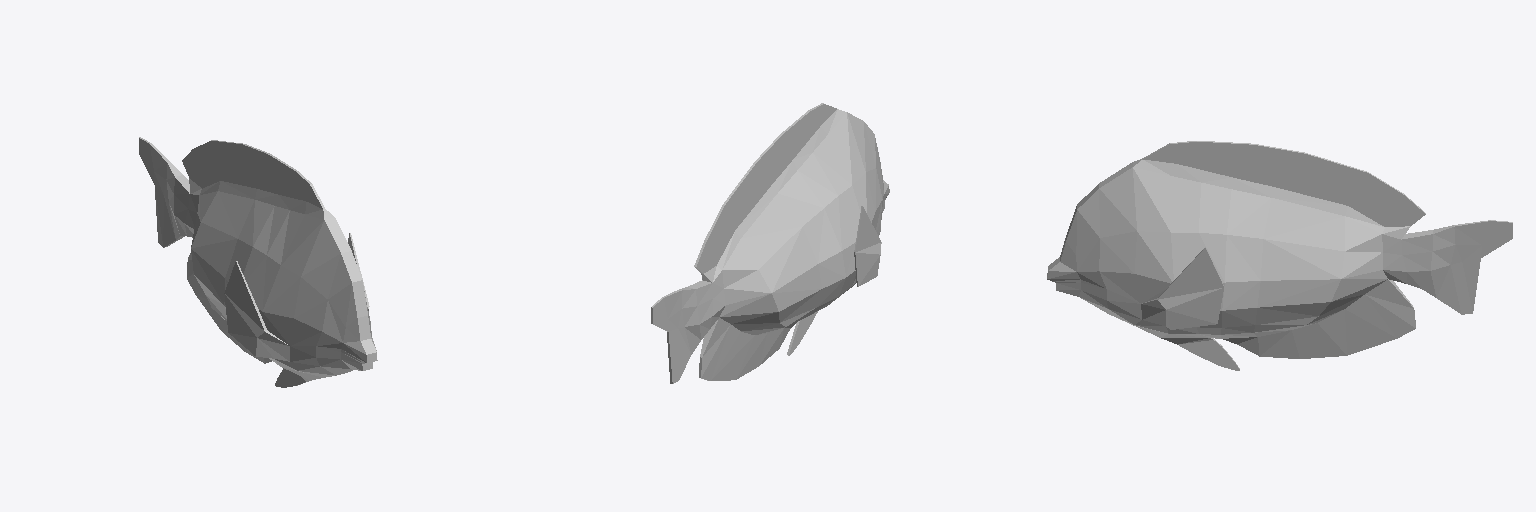
Rendered from fish4.obj.
3 views of the same model, side by side, from view 1: azimuth 30°, elevation 25°; view 2: azimuth 150°, elevation 25°; view 3: azimuth 270°, elevation 25° (orthographic).
Visible parts, largest first — view 1: TropicalFish04:TropicalFish04; view 2: TropicalFish04:TropicalFish04; view 3: TropicalFish04:TropicalFish04.
Boxes of the visible parts, box(x1,y1,x2,y2) form: TropicalFish04:TropicalFish04: box(139, 137, 377, 387); TropicalFish04:TropicalFish04: box(651, 103, 889, 383); TropicalFish04:TropicalFish04: box(1047, 141, 1512, 370).
Size of the model in its own units: 1.74 by 3.2 by 5.88.